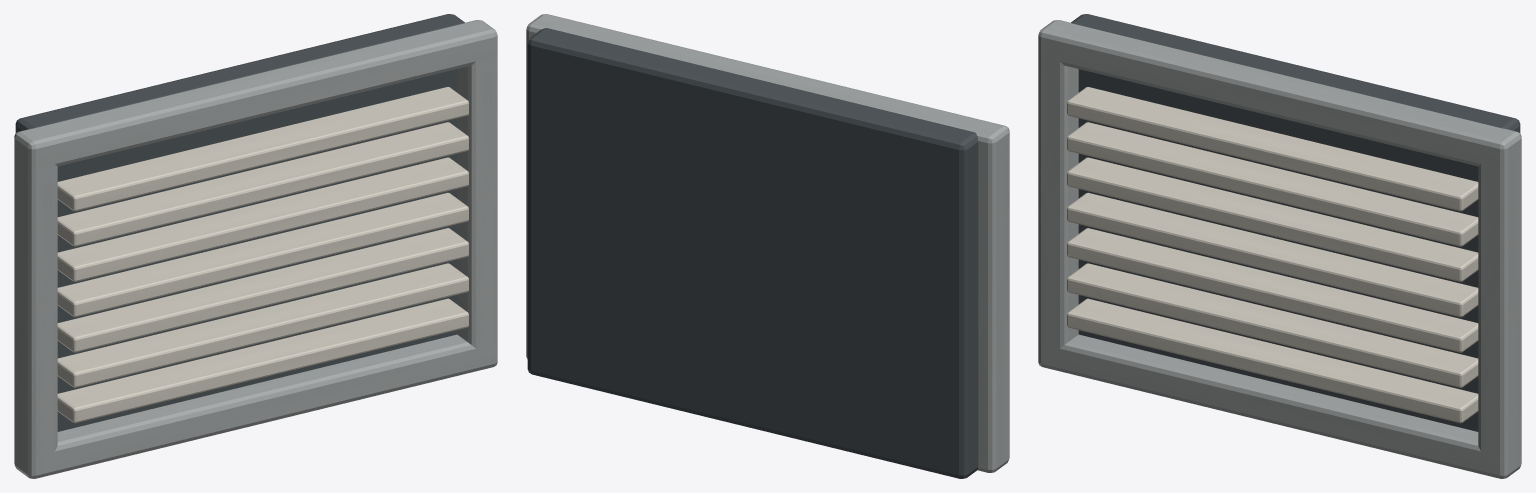
File: wall_vent_grille.glb
3 views of the same model, side by side, from view 1: azimuth 30°, elevation 25°; view 2: azimuth 150°, elevation 25°; view 3: azimuth 330°, elevation 25° (orthographic).
Parts seen in each view (by area): view 1: Back, Frame.001, Frame, Frame.002, Louver.002, Louver.003, Louver.005, Louver.006, Louver, Louver.001, Louver.004, Frame.003; view 2: Back, Frame.002, Frame.001, Frame.003; view 3: Back, Frame.001, Frame, Frame.003, Louver.002, Louver.003, Louver.005, Louver.006, Louver, Louver.001, Louver.004, Frame.002.
Part boxes in pixels (bbox=[...]): Back: bbox=[15, 14, 464, 431]; Frame.001: bbox=[16, 24, 497, 168]; Frame: bbox=[31, 334, 497, 478]; Frame.002: bbox=[14, 127, 57, 478]; Louver.002: bbox=[57, 228, 468, 352]; Louver.003: bbox=[57, 192, 468, 317]; Louver.005: bbox=[57, 122, 468, 246]; Louver.006: bbox=[57, 87, 468, 211]; Louver: bbox=[57, 298, 468, 423]; Louver.001: bbox=[57, 263, 468, 387]; Louver.004: bbox=[57, 157, 468, 281]; Frame.003: bbox=[457, 20, 497, 371]; Back: bbox=[527, 28, 978, 478]; Frame.002: bbox=[972, 121, 1009, 472]; Frame.001: bbox=[527, 18, 1009, 162]; Frame.003: bbox=[526, 14, 564, 358]; Back: bbox=[1071, 14, 1520, 431]; Frame.001: bbox=[1039, 24, 1521, 168]; Frame: bbox=[1038, 334, 1521, 477]; Frame.003: bbox=[1478, 127, 1521, 478]; Louver.002: bbox=[1067, 228, 1478, 352]; Louver.003: bbox=[1067, 192, 1478, 317]; Louver.005: bbox=[1067, 122, 1478, 246]; Louver.006: bbox=[1067, 87, 1478, 211]; Louver: bbox=[1067, 298, 1478, 423]; Louver.001: bbox=[1067, 263, 1478, 387]; Louver.004: bbox=[1067, 157, 1478, 281]; Frame.002: bbox=[1038, 20, 1078, 370].
Size of the model in its own units: 0.64 by 0.44 by 0.0925.
3 materials, 2 textured.
